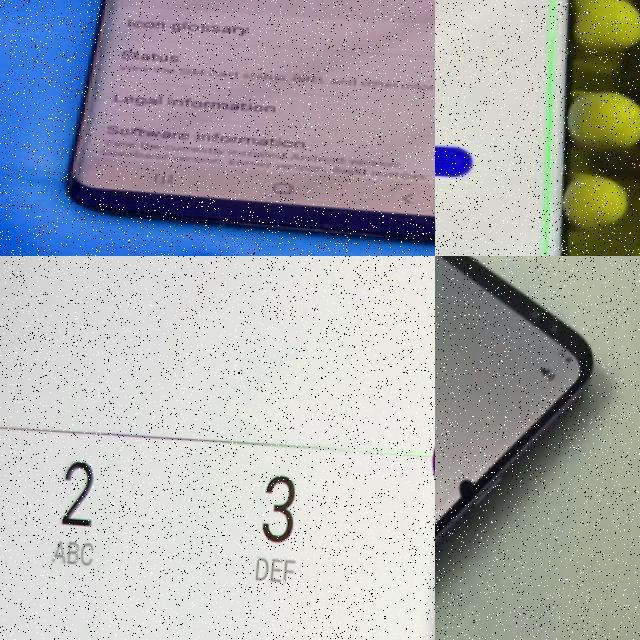dead pixel: (440, 446, 499, 514), (413, 397, 435, 506)
